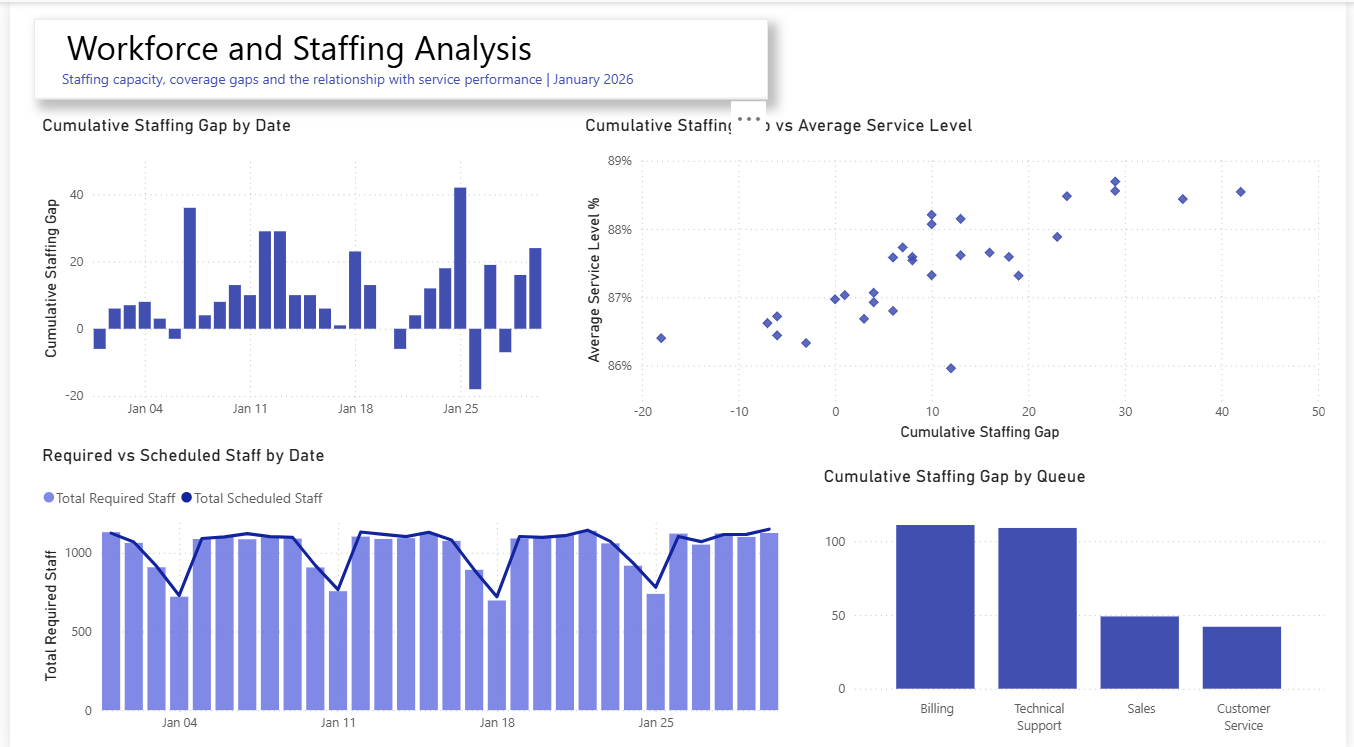

The dashboard page shown, as its layout file describes it:
{"tool":"powerbi","page":{"name":"Workforce & Staffing Analysis","canvas":[1280,720],"ordinal":1},"visuals":[{"type":"textbox","box":[23.3,15.1,702.6,77.2],"z":0,"group":"g1"},{"type":"lineClusteredColumnComboChart","title":"Cumulative Staffing Gap by Date","fields":{"Category":["Dim Date.Date"],"Y":["Call Center Data.Total Staffing Gap"]},"box":[25.7,107.5,501.2,299.8],"z":0},{"type":"clusteredColumnChart","title":"Cumulative Staffing Gap by Queue","fields":{"Category":["Dim Queue.Queue"],"Y":["Call Center Data.Total Staffing Gap"]},"box":[775.3,443.7,490.6,265],"z":1000},{"type":"scatterChart","title":"Cumulative Staffing Gap vs Average Service Level","fields":{"Category":["Dim Date.Date"],"X":["Call Center Data.Cumulative Staffing Gap"],"Y":["Call Center Data.Avg Service Level %"]},"box":[546.6,107.5,719.2,316.5],"z":2000},{"type":"lineClusteredColumnComboChart","title":"Required vs Scheduled Staff by Date","fields":{"Category":["Dim Date.Date"],"Y":["Call Center Data.Total Required Staff"],"Y2":["Call Center Data.Total Scheduled Staff"]},"box":[25.7,424,725.3,284.7],"z":3000},{"type":"group","id":"g1","title":"Group 3","box":[23.3,15.1,702.6,77.2],"z":3001}]}

Visuals, with their boxes in screenshot pixels (x1, y1, x2, y2), scaled from the page's 1280x720 canvas onto the 1354x747 screenshot:
textbox: bbox=(25, 16, 768, 96)
"Cumulative Staffing Gap by Date" lineClusteredColumnComboChart: bbox=(27, 112, 557, 423)
"Cumulative Staffing Gap by Queue" clusteredColumnChart: bbox=(820, 460, 1339, 735)
"Cumulative Staffing Gap vs Average Service Level" scatterChart: bbox=(578, 112, 1339, 440)
"Required vs Scheduled Staff by Date" lineClusteredColumnComboChart: bbox=(27, 440, 794, 735)
"Group 3" group: bbox=(25, 16, 768, 96)
